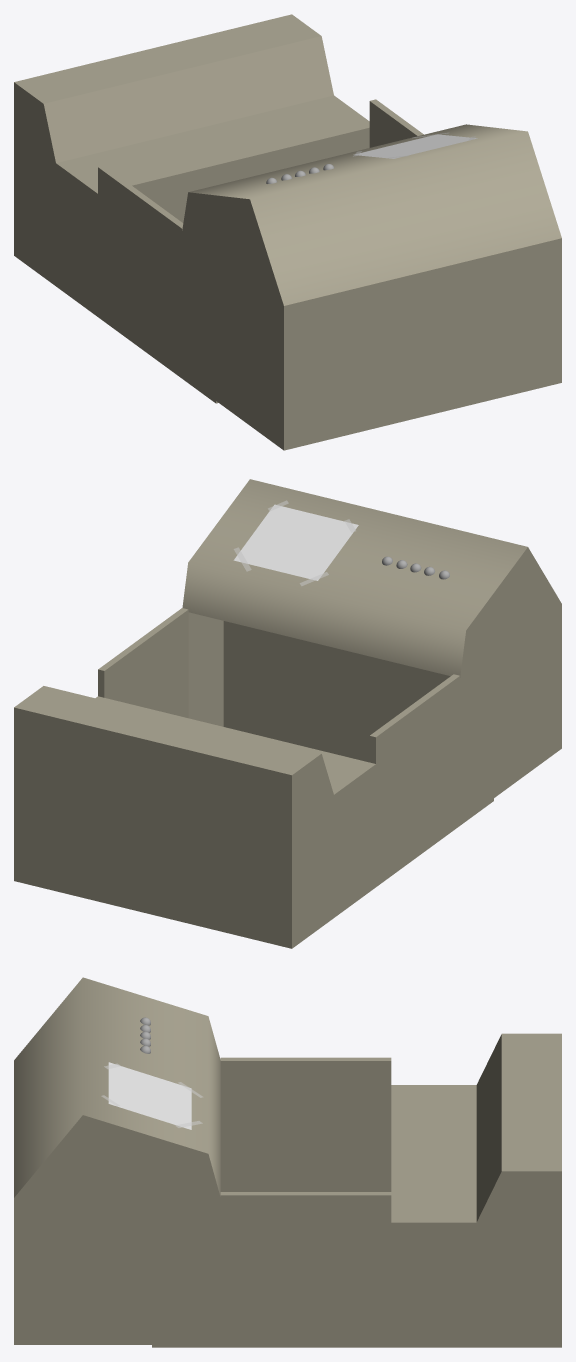
File: carrinho_golf.fbx
3 views of the same model, one above another, from view 1: azimuth 30°, elevation 25°; view 2: azimuth 150°, elevation 25°; view 3: azimuth 270°, elevation 25° (orthographic).
Parts seen in each view (by area): view 1: pCube1, pPlane1; view 2: pCube1, pPlane1; view 3: pCube1, pPlane1.
Boxes of the visible parts, x1=… form: pCube1: x1=14, y1=14, x2=561, y2=450; pPlane1: x1=353, y1=134, x2=477, y2=158; pCube1: x1=14, y1=479, x2=561, y2=948; pPlane1: x1=233, y1=504, x2=358, y2=580; pCube1: x1=14, y1=977, x2=561, y2=1347; pPlane1: x1=108, y1=1062, x2=191, y2=1129.
Bounding box in the file's own units: 2.8 × 2.2 × 4.71.
